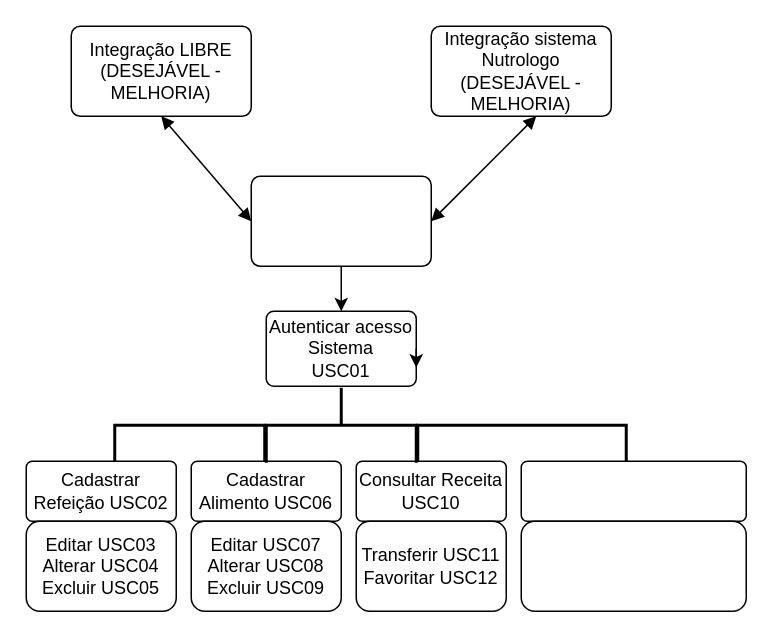
Image size: 773x638. Some labels were removed from this diagram. Each missing label, with the box of its shape:
Aplicativo DIAVITTAL: (250, 175, 431, 266)
Emitir Relatórios USC12: (520, 460, 746, 521)
Relatorio Alimento USC13 Relatorio Refeição USC14 Relatório Receitas USC15: (520, 520, 746, 611)
